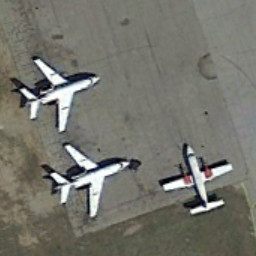Airplane: (27, 140, 142, 228), (4, 48, 105, 138), (152, 136, 244, 222)
